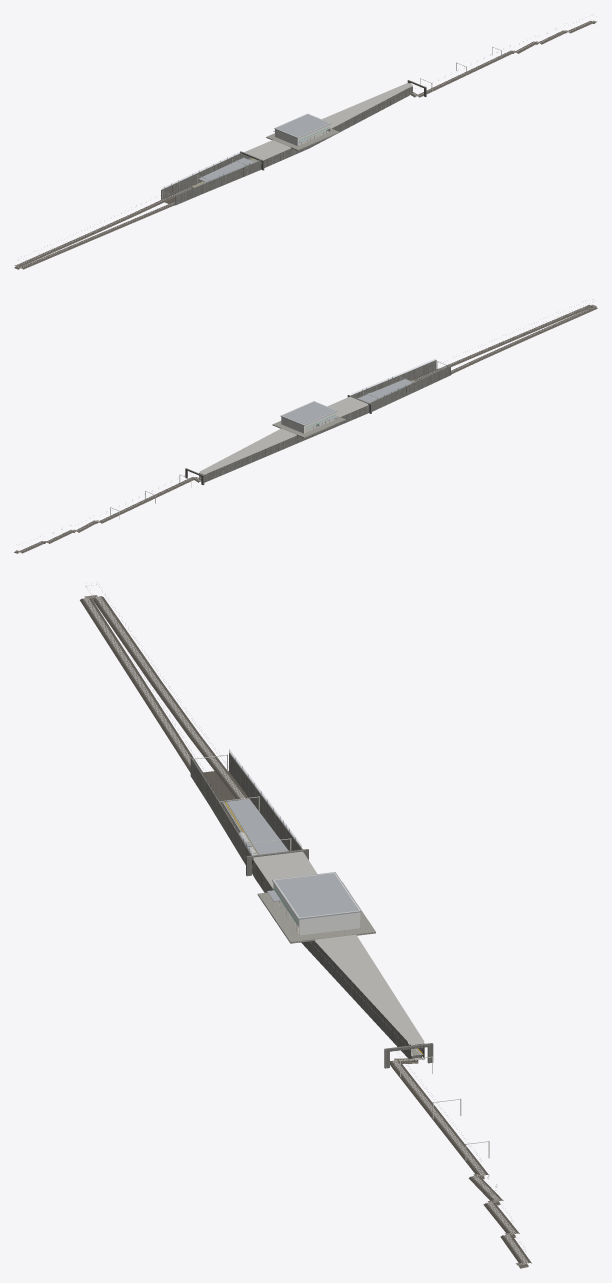
The model's file is station.glb.
3 views of the same model, one above another, from view 1: azimuth 30°, elevation 25°; view 2: azimuth 210°, elevation 25°; view 3: azimuth 270°, elevation 25° (orthographic). The views are drawn at different scales.
Parts seen in each view (by area): view 1: St_conc, St_ballast, St_conc_plain, St_panel_grey, St_sleeper, St_panel, St_tiles, St_glass; view 2: St_conc, St_ballast, St_conc_plain, St_panel_grey, St_sleeper, St_panel, St_tiles, St_glass; view 3: St_ballast, St_conc, St_conc_plain, St_panel_grey, St_sleeper, St_tiles, St_panel.
Boxes of the visible parts, left/top/right/bottom form: St_conc: left=161, top=80, right=426, bottom=205; St_ballast: left=14, top=20, right=596, bottom=269; St_conc_plain: left=244, top=83, right=412, bottom=160; St_panel_grey: left=198, top=113, right=331, bottom=182; St_sleeper: left=16, top=20, right=596, bottom=268; St_panel: left=257, top=114, right=330, bottom=161; St_tiles: left=192, top=128, right=339, bottom=187; St_glass: left=161, top=130, right=328, bottom=195; St_conc: left=185, top=360, right=450, bottom=485; St_ballast: left=14, top=304, right=597, bottom=553; St_conc_plain: left=199, top=396, right=368, bottom=474; St_panel_grey: left=280, top=379, right=413, bottom=425; St_sleeper: left=15, top=305, right=595, bottom=552; St_panel: left=281, top=401, right=336, bottom=433; St_tiles: left=200, top=380, right=415, bottom=478; St_glass: left=306, top=359, right=450, bottom=432; St_ballast: left=80, top=595, right=531, bottom=1268; St_conc: left=190, top=752, right=433, bottom=1068; St_conc_plain: left=253, top=851, right=424, bottom=1044; St_panel_grey: left=227, top=799, right=361, bottom=919; St_sleeper: left=83, top=595, right=528, bottom=1265; St_tiles: left=223, top=802, right=422, bottom=1055; St_panel: left=273, top=872, right=360, bottom=935.
Bounding box in the file's own units: 613 × 15.13 × 174.
Materials: 33 (5 with a texture image).
